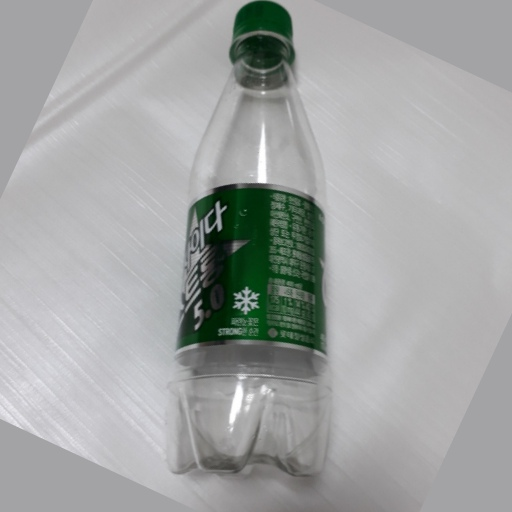Plastic_0: (162, 1, 341, 484)
